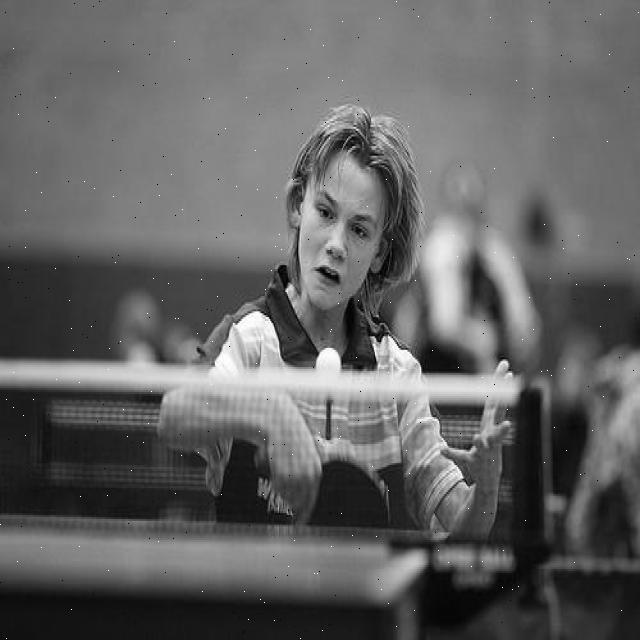ping-pong-ball: (316, 346, 339, 384)
